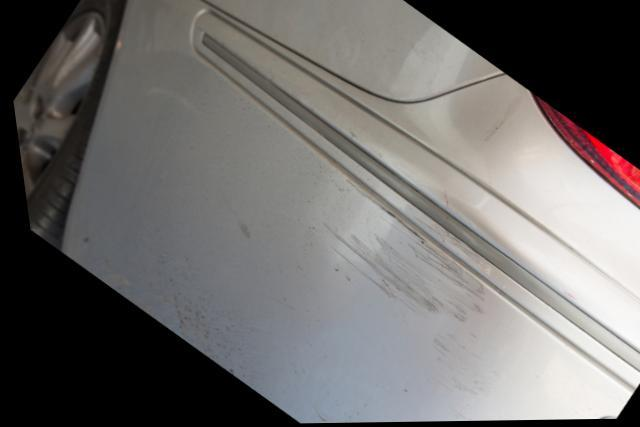scratch: (316, 173, 482, 423)
